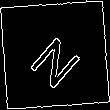N_NE: (23, 23, 87, 87)
